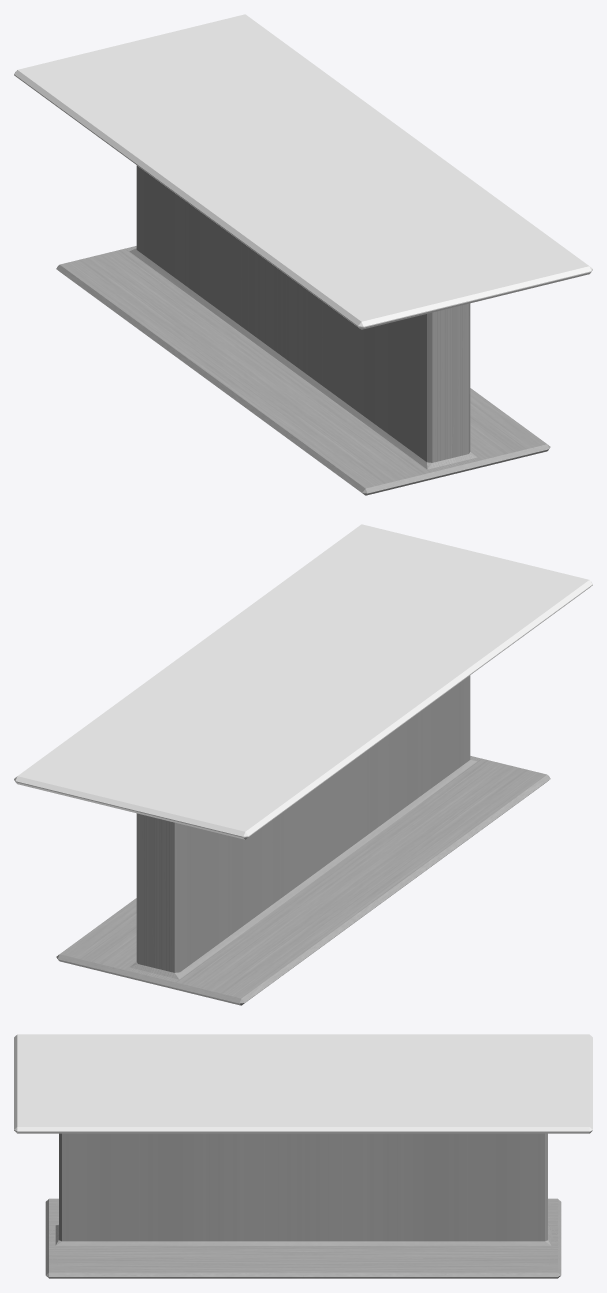
File: shoptable01.fbx
The picture shows the model from 3 angles, top to bottom: view 1: azimuth 30°, elevation 25°; view 2: azimuth 150°, elevation 25°; view 3: azimuth 270°, elevation 25°; orthographic projection. The views are drawn at different scales.
Visible parts, largest first — view 1: Table.002; view 2: Table.002; view 3: Table.002.
Boxes of the visible parts, bbox=[...] form: Table.002: bbox=[14, 14, 592, 495]; Table.002: bbox=[14, 524, 592, 1005]; Table.002: bbox=[14, 1034, 592, 1278].
Bounding box in the file's own units: 106 × 83.67 × 273.
Materials: 2 (2 with a texture image).
